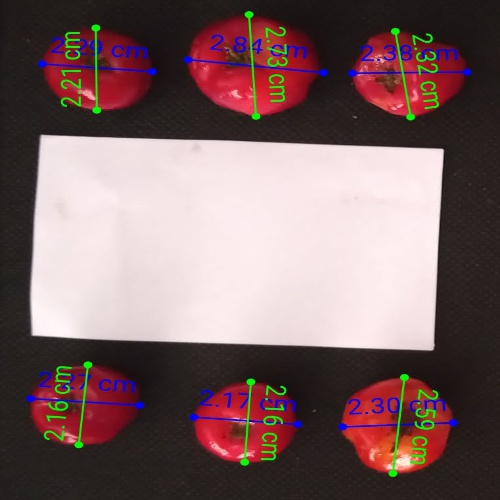acerola: (188, 16, 318, 116), (341, 377, 453, 472), (352, 31, 467, 115), (42, 28, 152, 110), (29, 366, 139, 446), (194, 382, 296, 464)
cartao: (39, 138, 444, 343)
